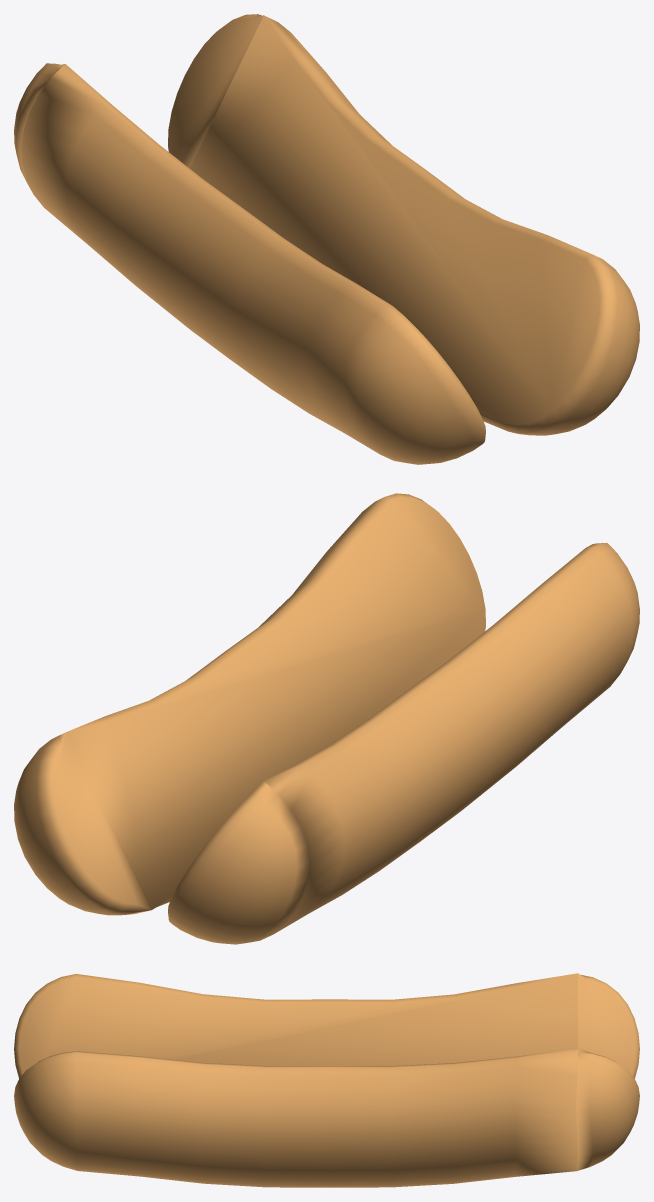
The model's file is bread2sliced.fbx.
3 renders of one model, top to bottom at view 1: azimuth 30°, elevation 25°; view 2: azimuth 150°, elevation 25°; view 3: azimuth 270°, elevation 25°, orthographic. The views are drawn at different scales.
Visible parts, largest first — view 1: HotDogBreadCutted; view 2: HotDogBreadCutted; view 3: HotDogBreadCutted.
Part boxes in pixels (<box>): HotDogBreadCutted: <box>14,14,639,464</box>; HotDogBreadCutted: <box>14,493,639,944</box>; HotDogBreadCutted: <box>14,973,639,1187</box>.
Bounding box in the file's own units: 276 × 182 × 670.
